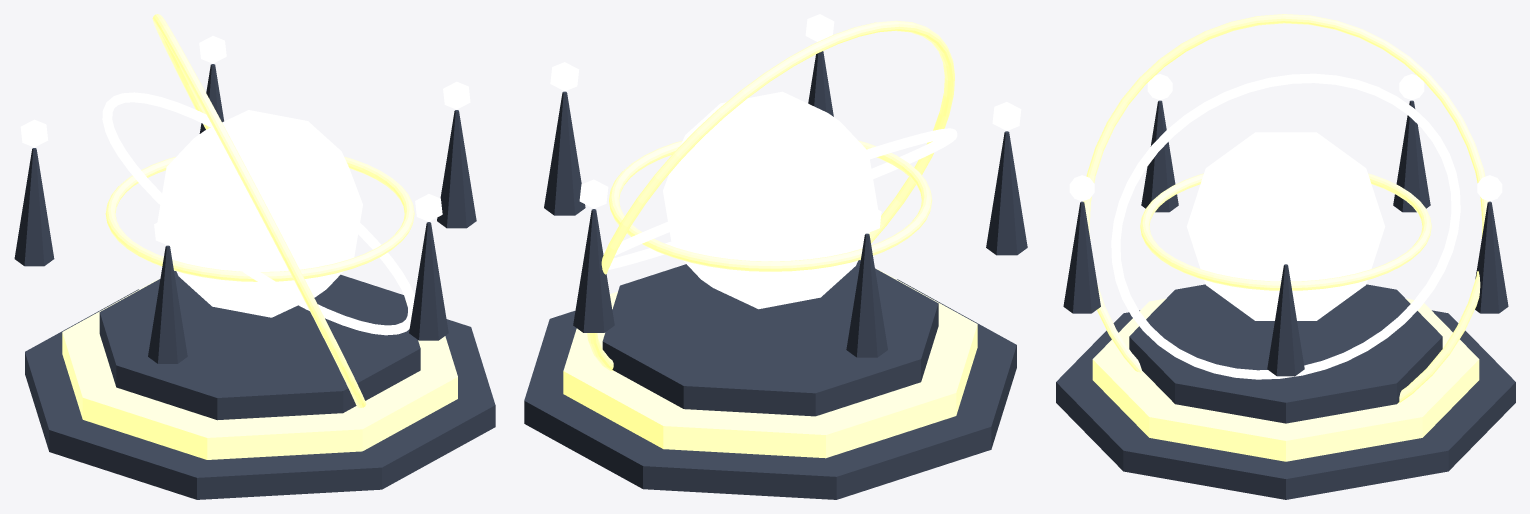
Rendered from gpu-blender-v15.glb.
3 views of the same model, side by side, from view 1: azimuth 30°, elevation 25°; view 2: azimuth 150°, elevation 25°; view 3: azimuth 270°, elevation 25° (orthographic). The views are drawn at different scales.
Parts seen in each view (by area): view 1: Cylinder.002, SovereignCore_mcp-lens, Cylinder, Cylinder.001, Torus.001, Torus.002, Torus, Cone.002, Cone.004, Cone.003, Cone, Icosphere.001 (+5 smaller); view 2: Cylinder.002, SovereignCore_mcp-lens, Cylinder, Cylinder.001, Torus.002, Torus, Torus.001, Cone.003, Cone.002, Cone, Cone.001, Cone.004 (+5 smaller); view 3: SovereignCore_mcp-lens, Cylinder.002, Cylinder, Cylinder.001, Torus.001, Torus.002, Torus, Cone, Cone.004, Cone.001, Cone.002, Cone.003 (+5 smaller).
Boxes of the visible parts, box(x1,y1,x2,y2) form: Cylinder.002: box(99, 271, 420, 420); SovereignCore_mcp-lens: box(157, 110, 362, 317); Cylinder: box(25, 289, 495, 499); Cylinder.001: box(62, 279, 457, 459); Torus.001: box(102, 92, 414, 335); Torus.002: box(152, 14, 366, 407); Torus: box(105, 156, 414, 281); Cone.002: box(14, 148, 54, 266); Cone.004: box(409, 222, 448, 340); Cone.003: box(148, 245, 187, 363); Cone: box(437, 110, 476, 228); Icosphere.001: box(199, 36, 226, 63); Cylinder.002: box(602, 260, 938, 416); SovereignCore_mcp-lens: box(663, 91, 877, 309); Cylinder: box(524, 279, 1016, 499); Cylinder.001: box(563, 269, 977, 458); Torus.002: box(587, 20, 954, 370); Torus: box(609, 140, 932, 271); Torus.001: box(603, 128, 957, 269); Cone.003: box(986, 131, 1027, 255); Cone.002: box(846, 233, 887, 357); Cone: box(544, 91, 585, 215); Cone.001: box(573, 209, 614, 332); Cone.004: box(808, 51, 833, 116); SovereignCore_mcp-lens: box(1186, 132, 1385, 320); Cylinder.002: box(1129, 284, 1442, 423); Cylinder: box(1056, 310, 1515, 499); Cylinder.001: box(1092, 298, 1479, 461); Torus.001: box(1111, 73, 1460, 379); Torus.002: box(1083, 14, 1488, 403); Torus: box(1140, 173, 1431, 290); Cone: box(1267, 264, 1304, 376); Cone.004: box(1063, 201, 1100, 313); Cone.001: box(1475, 201, 1508, 313); Cone.002: box(1393, 100, 1430, 212); Cone.003: box(1141, 100, 1178, 212).
Bounding box in the file's own units: 4.41 × 3.72 × 4.4.
